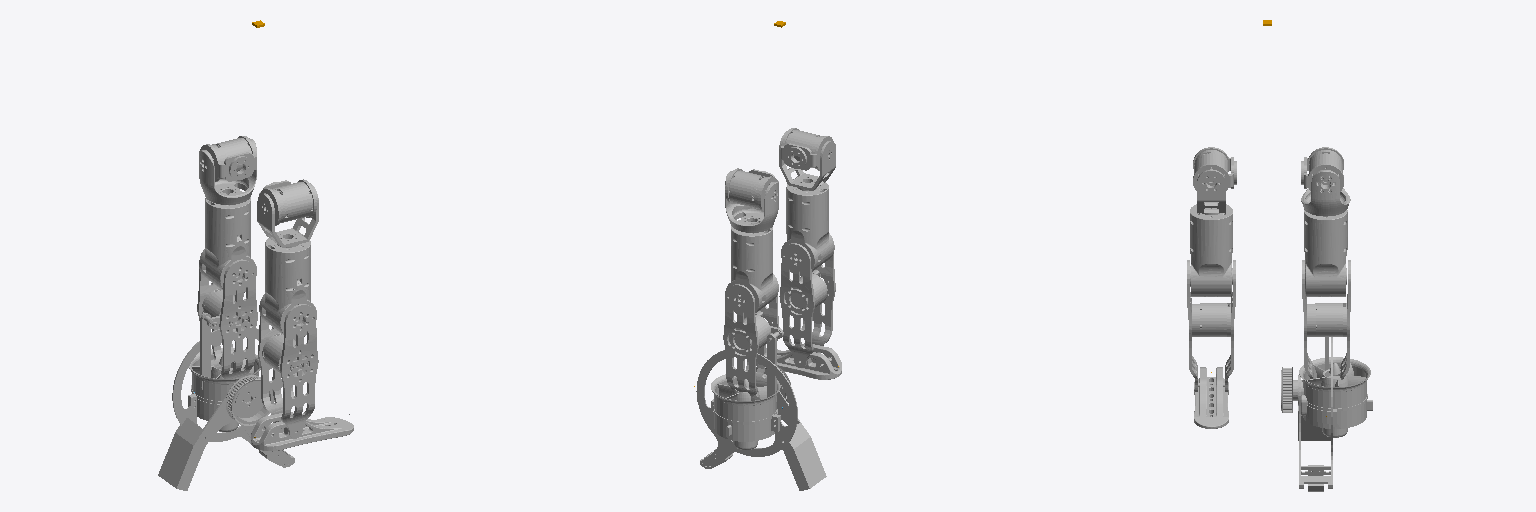
--- Facts derived from the render (not from the file) ---
3 views of the same robot in one strip: view 1: azimuth 30°, elevation 25°; view 2: azimuth 150°, elevation 25°; view 3: azimuth 270°, elevation 25° (orthographic).
Robot: legged_dm_description_no_arm — 17 links, 16 joints (10 revolute, 6 fixed); root link base_link; default pose: all joints at 0.
Links seen in each view (by area): view 1: leg_l5_link, leg_r4_link, leg_l4_link, leg_r3_link, leg_l3_link, leg_r5_link, leg_l1_link, leg_r1_link, leg_l2_link, leg_r2_link; view 2: leg_l5_link, leg_r4_link, leg_l4_link, leg_r3_link, leg_l3_link, leg_l2_link, leg_l1_link, leg_r1_link, leg_r5_link, leg_r2_link; view 3: leg_l5_link, leg_r3_link, leg_l3_link, leg_l4_link, leg_r4_link, leg_r5_link, leg_l2_link, leg_r1_link, leg_l1_link, leg_r2_link.
Boxes of the visible links, x1,y1,x2,y2 form: leg_l5_link: [158, 328, 294, 490]; leg_r4_link: [258, 304, 318, 438]; leg_l4_link: [197, 249, 257, 389]; leg_r3_link: [259, 238, 316, 338]; leg_l3_link: [199, 197, 256, 294]; leg_r5_link: [251, 412, 353, 451]; leg_l1_link: [200, 136, 256, 181]; leg_r1_link: [259, 179, 316, 225]; leg_l2_link: [199, 138, 256, 204]; leg_r2_link: [257, 183, 318, 247]; leg_l5_link: [696, 350, 826, 490]; leg_r4_link: [779, 243, 835, 367]; leg_l4_link: [723, 284, 783, 402]; leg_r3_link: [781, 182, 834, 275]; leg_l3_link: [725, 226, 778, 316]; leg_l2_link: [725, 171, 778, 232]; leg_l1_link: [725, 168, 778, 211]; leg_r1_link: [781, 128, 833, 170]; leg_r5_link: [756, 343, 841, 379]; leg_r2_link: [779, 131, 835, 190]; leg_l5_link: [1281, 337, 1372, 491]; leg_r3_link: [1190, 204, 1232, 296]; leg_l3_link: [1304, 209, 1347, 296]; leg_l4_link: [1302, 260, 1350, 379]; leg_r4_link: [1187, 260, 1235, 391]; leg_r5_link: [1194, 367, 1228, 428]; leg_l2_link: [1301, 170, 1350, 216]; leg_r1_link: [1193, 147, 1236, 190]; leg_l1_link: [1301, 147, 1343, 191]; leg_r2_link: [1197, 169, 1225, 214].
Bounding box of the posed robot: 0.2382 × 0.311 × 0.8235 m (x, y, z).
10 mesh visuals loaded from 12 distinct referenced files (10 binary STL); not drawn: 2 (reference not matched to a file when rendering).

URDF robot description (legged_dm_description_no_arm):
<?xml version="1.0" encoding="utf-8"?>
<!-- This URDF was automatically created by SolidWorks to URDF Exporter! Originally created by Stephen Brawner ([email redacted]) 
     Commit Version: 1.6.0-4-g7f85cfe  Build Version: 1.6.7995.38578
     For more information, please see http://wiki.ros.org/sw_urdf_exporter -->
<robot
  name="legged_dm_description_no_arm">
  
  
    <gazebo>
    <plugin name="gazebo_ros_control" filename="libdm_bipedal_hw_sim.so">
      <robotNamespace>/</robotNamespace>
      <robotParam>legged_robot_description</robotParam>
      <robotSimType>legged_gazebo/LeggedHWSim</robotSimType>
    </plugin>
  </gazebo>

  <gazebo>
    <plugin filename="libgazebo_ros_p3d.so" name="p3d_base_controller">
      <alwaysOn>true</alwaysOn>
      <updateRate>500.0</updateRate>
      <bodyName>base_link</bodyName>
      <topicName>ground_truth/state</topicName>
      <gaussianNoise>0</gaussianNoise>
      <frameName>world</frameName>
      <xyzOffsets>0 0 0</xyzOffsets>
      <rpyOffsets>0 0 0</rpyOffsets>
    </plugin>
  </gazebo>
  
  
     <joint name="imu_joint" type="fixed">
    <origin rpy="0. 0. 0." xyz="0. 0. 0"/>
    <parent link="base_link"/>
    <child link="imu_link"/>
  </joint>
  <!-- Imu link -->
  <link name="imu_link">
    <inertial>
      <mass value="0.01"/>
      <origin rpy="0 0 0" xyz="0 0 0"/>
      <inertia ixx="0.000001" ixy="0" ixz="0" iyy="0.000001" iyz="0" izz="0.000001"/>
    </inertial>
    <visual>
      <origin rpy="0 0 0" xyz="0 0 0"/>
      <geometry>
        <box size="0.015 0.015 0.004"/>
      </geometry>
    </visual>
    <material name="orange">
      <color rgba="255 108 10 255"/>
    </material>
  </link>
  <gazebo reference="imu_joint">
    <disableFixedJointLumping>true</disableFixedJointLumping>
  </gazebo>
  
  
  <link
    name="base_link">
    <inertial>
      <origin
        xyz="0.0061480341136492 2.42553531417805E-05 -0.111624993311513"
        rpy="0 0 0" />
      <mass
        value="3.81753131" />
      <inertia
        ixx="0.02096040"
        ixy="-0.00000182"
        ixz="0.00154787"
        iyy="0.01755665"
        iyz="0.00005804"
        izz="0.00820537" />
    </inertial>
    <visual>
      <origin
        xyz="0 0 0"
        rpy="0 0 0" />
      <geometry>
        <mesh
          filename="package://legged_dm_description/meshes/base_link.STL" />
      </geometry>
      <material
        name="">
        <color
          rgba="0.752941176470588 0.752941176470588 0.752941176470588 1" />
      </material>
    </visual>
    <collision>
      <origin
        xyz="-0.004 0 -0.095"
        rpy="0 0 0" />
      <geometry>
        <box size="0.125 0.12 0.245" />
      </geometry>
    </collision>
  </link>
  
  
  <link
    name="loin_yaw_Link">
    <inertial>
      <origin
        xyz="-3.96165344417124E-05 1.08886951040443E-06 -0.0382219990598478"
        rpy="0 0 0" />
      <mass
        value="1.24596075" />
      <inertia
        ixx="0.00229679"
        ixy="0"
        ixz="-0.00000824"
        iyy="0.00136964"
        iyz="-0.00000004"
        izz="0.00209045" />
    </inertial>
    <visual>
      <origin
        xyz="0 0 0"
        rpy="0 0 0" />
      <geometry>
        <mesh
          filename="package://legged_dm_description/meshes/loin_yaw_Link.STL" />
      </geometry>
      <material
        name="">
        <color
          rgba="0.752941176470588 0.752941176470588 0.752941176470588 1" />
      </material>
    </visual>
    <collision>
      <origin
        xyz="0 0 -0.045"
        rpy="0 0 0" />
      <geometry>
        <box size="0.08 0.1 0.07" />
      </geometry>
    </collision>
  </link>
  <joint
    name="loin_yaw_joint"
    type="fixed">
    <origin
      xyz="-0.00067821 0.0012513 -0.21859"
      rpy="0 0 0" />
    <parent
      link="base_link" />
    <child
      link="loin_yaw_Link" />
    <axis
      xyz="0 0 0" />
  </joint>
  
  
  <link
    name="leg_l1_link">
    <inertial>
      <origin
        xyz="-0.000506986055872183 0.0370231933558073 6.36401191710101E-07"
        rpy="0 0 0" />
      <mass
        value="0.48644139" />
      <inertia
        ixx="0.00023823"
        ixy="0.00000385"
        ixz="0"
        iyy="0.00028074"
        iyz="-0.00000006"
        izz="0.00031528" />
    </inertial>
    <visual>
      <origin
        xyz="0 0 0"
        rpy="0 0 0" />
      <geometry>
        <mesh
          filename="package://legged_dm_description/meshes/leg_l1_link.STL" />
      </geometry>
      <material
        name="">
        <color
          rgba="0.752941176470588 0.752941176470588 0.752941176470588 1" />
      </material>
    </visual>
    <collision>
      <origin
        xyz="0 0 0"
        rpy="0 0 0" />
      <geometry>
        <box size="0.0001 0.0001 0.0001" />
      </geometry>
    </collision>
  </link>
  <joint
    name="leg_l1_joint"
    type="revolute">
    <origin
      xyz="0 0.05355 -0.057"
      rpy="0 0 0" />
    <parent
      link="loin_yaw_Link" />
    <child
      link="leg_l1_link" />
    <axis
      xyz="0 1 0" />
    <limit
      lower="-1.05"
      upper="1.05"
      effort="26"
      velocity="10" />
  </joint>
  
  
  <link
    name="leg_l2_link">
    <inertial>
      <origin
        xyz="-0.0320414029924599 1.4432899320127E-15 -0.0308330815574961"
        rpy="0 0 0" />
      <mass
        value="0.11861238" />
      <inertia
        ixx="0.00011451"
        ixy="0"
        ixz="-0.00000415"
        iyy="0.00022087"
        iyz="0"
        izz="0.00015614" />
    </inertial>
    <visual>
      <origin
        xyz="0 0 0"
        rpy="0 0 0" />
      <geometry>
        <mesh
          filename="package://legged_dm_description/meshes/leg_l2_link.STL" />
      </geometry>
      <material
        name="">
        <color
          rgba="0.752941176470588 0.752941176470588 0.752941176470588 1" />
      </material>
    </visual>
    <collision>
      <origin
        xyz="0 0 0"
        rpy="0 0 0" />
      <geometry>
        <box size="0.0001 0.0001 0.0001" />
      </geometry>
    </collision>
  </link>
  <joint
    name="leg_l2_joint"
    type="revolute">
    <origin
      xyz="0.03105 0.042 0"
      rpy="0 0 0" />
    <parent
      link="leg_l1_link" />
    <child
      link="leg_l2_link" />
    <axis
      xyz="1 0 0" />
    <limit
      lower="-0.52"
      upper="0.785"
      effort="26"
      velocity="10" />
  </joint>
  
  
  <link
    name="leg_l3_link">
    <inertial>
      <origin
        xyz="0.000278982887999102 -0.000229561861601335 -0.0715253433662409"
        rpy="0 0 0" />
      <mass
        value="0.96637716" />
      <inertia
        ixx="0.00249649"
        ixy="0.00000107"
        ixz="0.00000468"
        iyy="0.00247033"
        iyz="0.00007622"
        izz="0.00055659" />
    </inertial>
    <visual>
      <origin
        xyz="0 0 0"
        rpy="0 0 0" />
      <geometry>
        <mesh
          filename="package://legged_dm_description/meshes/leg_l3_link.STL" />
      </geometry>
      <material
        name="">
        <color
          rgba="0.752941176470588 0.752941176470588 0.752941176470588 1" />
      </material>
    </visual>
    <collision>
      <origin
        xyz="0 0 0"
        rpy="0 0 0" />
      <geometry>
        <box size="0.0001 0.0001 0.0001" />
      </geometry>
    </collision>
  </link>
  <joint
    name="leg_l3_joint"
    type="revolute">
    <origin
      xyz="-0.030907 0 -0.074"
      rpy="0 0 0" />
    <parent
      link="leg_l2_link" />
    <child
      link="leg_l3_link" />
    <axis
      xyz="0 0 1" />
    <limit
      lower="-0.52"
      upper="0.785"
      effort="26"
      velocity="10" />
  </joint>
  
  
  <link
    name="leg_l4_link">
    <inertial>
      <origin
        xyz="-0.0129877782682978 0.0325006294835812 -0.0983187176884057"
        rpy="0 0 0" />
      <mass
        value="0.59597545" />
      <inertia
        ixx="0.00116533"
        ixy="0.00001896"
        ixz="0.00018591"
        iyy="0.00120581"
        iyz="0.00001376"
        izz="0.00048458" />
    </inertial>
    <visual>
      <origin
        xyz="0 0 0"
        rpy="0 0 0" />
      <geometry>
        <mesh
          filename="package://legged_dm_description/meshes/leg_l4_link.STL" />
      </geometry>
      <material
        name="">
        <color
          rgba="0.752941176470588 0.752941176470588 0.752941176470588 1" />
      </material>
    </visual>
    <collision>
      <origin 
	xyz="0 0.03 -0.1"
	rpy="0 0 0" />
      <geometry>
        <box size="0.041 0.07 0.15" />
      </geometry>
    </collision>
  </link>
  <joint
    name="leg_l4_joint"
    type="revolute">
    <origin
      xyz="0 -0.03105 -0.11705"
      rpy="0 0 0" />
    <parent
      link="leg_l3_link" />
    <child
      link="leg_l4_link" />
    <axis
      xyz="0 1 0" />
    <limit
      lower="-0.3"
      upper="2.3562"
      effort="26"
      velocity="10" />
  </joint>
  
  
  <link
    name="leg_l5_link">
    <inertial>
      <origin
        xyz="0.0111687050873322 -0.00799990634396416 -0.0124140199936342"
        rpy="0 0 0" />
      <mass
        value="0.15464822" />
      <inertia
        ixx="0.00005706"
        ixy="0"
        ixz="-0.00002775"
        iyy="0.00032948"
        iyz="0"
        izz="0.00035120" />
    </inertial>
    <visual>
      <origin
        xyz="0 0 0"
        rpy="0 0 0" />
      <geometry>
        <mesh
          filename="package://legged_dm_description/meshes/leg_l5_link.STL" />
      </geometry>
      <material
        name="">
        <color
          rgba="0.752941176470588 0.752941176470588 0.752941176470588 1" />
      </material>
    </visual>
     <collision>
      <origin
        xyz="0.027 -0.008 -0.015"
        rpy="0 0 0" />
      <geometry>
        <box size="0.175 0.06 0.02" />
      </geometry>
    </collision>
  </link>
  <joint
    name="leg_l5_joint"
    type="revolute">
    <origin
      xyz="0 0.040975 -0.2"
      rpy="0 0 0" />
    <parent
      link="leg_l4_link" />
    <child
      link="leg_l5_link" />
    <axis
      xyz="0 1 0" />
    <limit
      lower="-1.047"
      upper="0.3"
      effort="26"
      velocity="10" />
  </joint>
  
  
  
  <joint name="leg_l5_fixed_1" type="fixed">
    <origin xyz="0.113 -0.008 -0.006" rpy="0 0 0" />
    <parent link="leg_l5_link" />
    <child link="leg_l_f1_link" />
  </joint>
  <link name="leg_l_f1_link">
    <inertial>
      <mass value="0.01" />
      <inertia ixx="0.000001" ixy="0" ixz="0" iyy="0.000001" iyz="0" izz="0.000001" />
    </inertial>
    <visual>
      <origin rpy="0 0 0" xyz="0 0 0"/>
      <geometry>
        <sphere radius="0.001"/>
      </geometry>
    </visual>
    <collision>
      <origin rpy="0 0 0" xyz="0 0 0"/>
      <geometry>
        <sphere radius="0.001"/>
      </geometry>
    </collision>
  </link>

  <joint name="leg_l5_fixed_2" type="fixed">
    <origin xyz="-0.061 -0.008 -0.006" rpy="0 0 0" />
    <parent link="leg_l5_link" />
    <child link="leg_l_f2_link" />
  </joint>
  <link name="leg_l_f2_link">
    <inertial>
      <mass value="0.01" />
      <inertia ixx="0.000001" ixy="0" ixz="0" iyy="0.000001" iyz="0" izz="0.000001" />
    </inertial>
    <visual>
      <origin rpy="0 0 0" xyz="0 0 0"/>
      <geometry>
        <sphere radius="0.001"/>
      </geometry>
    </visual>
    <collision>
      <origin rpy="0 0 0" xyz="-0 0 0"/>
      <geometry>
        <sphere radius="0.001"/>
      </geometry>
    </collision>
  </link>

   <gazebo reference="leg_l1_link">
    <mu1>0.6</mu1>
    <mu2>0.6</mu2>
    <self_collide>1</self_collide>
  </gazebo>
  <gazebo reference="leg_l2_link">
    <mu1>0.6</mu1>
    <mu2>0.6</mu2>
    <self_collide>1</self_collide>
  </gazebo>
  <gazebo reference="leg_l3_link">
    <mu1>0.6</mu1>
    <mu2>0.6</mu2>
    <self_collide>1</self_collide>
  </gazebo>
  <gazebo reference="leg_l4_link">
    <mu1>0.6</mu1>
    <mu2>0.6</mu2>
    <self_collide>1</self_collide>
  </gazebo>
  <gazebo reference="leg_l5_link">
    <mu1>0.7</mu1>
    <mu2>0.7</mu2>
    <self_collide>1</self_collide>
    <kp value="1000000.0"/>
    <kd value="100.0"/>
    <maxVel>1.0</maxVel>
    <minDepth>0.00</minDepth>
  </gazebo>
  <gazebo reference="leg_l_f1_link">
    <mu1>1.5</mu1>
    <mu2>1.5</mu2>
    <self_collide>1</self_collide>
    <kp value="1000000.0"/>
    <kd value="100.0"/>
    <maxVel>1.0</maxVel>
    <minDepth>0.00</minDepth>
  </gazebo>
  <gazebo reference="leg_l_f2_link">
    <mu1>1.5</mu1>
    <mu2>1.5</mu2>
    <self_collide>1</self_collide>
    <kp value="1000000.0"/>
    <kd value="100.0"/>
    <maxVel>1.0</maxVel>
    <minDepth>0.00</minDepth>
  </gazebo>

  <transmission name="leg_l1_tran">
    <type>transmission_interface/SimpleTransmission</type>
    <joint name="leg_l1_joint">
      <hardwareInterface>hardware_interface/EffortJointInterface</hardwareInterface>
    </joint>
    <actuator name="leg_l1_motor">
      <hardwareInterface>hardware_interface/EffortJointInterface</hardwareInterface>
      <mechanicalReduction>1</mechanicalReduction>
    <maxVelocity>1.484</maxVelocity><!-- 85rpm -->
	  <maxEffort>36.0</maxEffort><!-- 36Nm -->
    </actuator>
  </transmission>

  <transmission name="leg_l2_tran">
    <type>transmission_interface/SimpleTransmission</type>
    <joint name="leg_l2_joint">
      <hardwareInterface>hardware_interface/EffortJointInterface</hardwareInterface>
    </joint>
    <actuator name="leg_l2_motor">
      <hardwareInterface>hardware_interface/EffortJointInterface</hardwareInterface>
      <mechanicalReduction>1</mechanicalReduction>
    <maxVelocity>2.6545</maxVelocity><!-- 160rpm -->
	  <maxEffort>94.0</maxEffort><!-- 94Nm -->
    </actuator>
  </transmission>

  <transmission name="leg_l3_tran">
    <type>transmission_interface/SimpleTransmission</type>
    <joint name="leg_l3_joint">
      <hardwareInterface>hardware_interface/EffortJointInterface</hardwareInterface>
    </joint>
    <actuator name="leg_l3_motor">
      <hardwareInterface>hardware_interface/EffortJointInterface</hardwareInterface>
      <mechanicalReduction>1</mechanicalReduction>
    <maxVelocity>2.6545</maxVelocity><!-- 160rpm -->
	  <maxEffort>94.0</maxEffort><!-- 94Nm -->
    </actuator>
  </transmission>

  <transmission name="leg_l4_tran">
    <type>transmission_interface/SimpleTransmission</type>
    <joint name="leg_l4_joint">
      <hardwareInterface>hardware_interface/EffortJointInterface</hardwareInterface>
    </joint>
    <actuator name="leg_l4_motor">
      <hardwareInterface>hardware_interface/EffortJointInterface</hardwareInterface>
      <mechanicalReduction>1</mechanicalReduction>
    <maxVelocity>1.484</maxVelocity><!-- 85rpm -->
	<maxEffort>36.0</maxEffort><!-- 36Nm -->
    </actuator>
  </transmission>

  <transmission name="leg_l5_tran">
    <type>transmission_interface/SimpleTransmission</type>
    <joint name="leg_l5_joint">
      <hardwareInterface>hardware_interface/EffortJointInterface</hardwareInterface>
    </joint>
    <actuator name="leg_l5_motor">
      <hardwareInterface>hardware_interface/EffortJointInterface</hardwareInterface>
      <mechanicalReduction>1</mechanicalReduction>
    </actuator>
  </transmission>





  
  <link
    name="leg_r1_link">
    <inertial>
      <origin
        xyz="-0.000537148387942242 -0.0370239207667192 6.16101090135379E-06"
        rpy="0 0 0" />
      <mass
        value="0.48644139" />
      <inertia
        ixx="0.00023823"
        ixy="-0.00000382"
        ixz="-0.00000011"
        iyy="0.00028115"
        iyz="-0.00000010"
        izz="0.00031577" />
    </inertial>
    <visual>
      <origin
        xyz="0 0 0"
        rpy="0 0 0" />
      <geometry>
        <mesh
          filename="package://legged_dm_description/meshes/leg_r1_link.STL" />
      </geometry>
      <material
        name="">
        <color
          rgba="0.752941176470588 0.752941176470588 0.752941176470588 1" />
      </material>
    </visual>
    <collision>
      <origin
        xyz="0 0 0"
        rpy="0 0 0" />
      <geometry>
        <box size="0.0001 0.0001 0.0001" />
      </geometry>
    </collision>
  </link>
  <joint
    name="leg_r1_joint"
    type="revolute">
    <origin
      xyz="0 -0.05355 -0.057"
      rpy="0 0 0" />
    <parent
      link="loin_yaw_Link" />
    <child
      link="leg_r1_link" />
    <axis
      xyz="0 1 0" />
    <limit
      lower="-1.05"
      upper="1.05"
      effort="26"
      velocity="10" />
  </joint>
  
  
  <link
    name="leg_r2_link">
    <inertial>
      <origin
        xyz="-0.032041402992459 -4.16333634234434E-15 -0.0308330815574887"
        rpy="0 0 0" />
      <mass
        value="0.11861238" />
      <inertia
        ixx="0.00011451"
        ixy="0"
        ixz="-0.00000415"
        iyy="0.00022087"
        iyz="0"
        izz="0.00015614" />
    </inertial>
    <visual>
      <origin
        xyz="0 0 0"
        rpy="0 0 0" />
      <geometry>
        <mesh
          filename="package://legged_dm_description/meshes/leg_r2_link.STL" />
      </geometry>
      <material
        name="">
        <color
          rgba="0.752941176470588 0.752941176470588 0.752941176470588 1" />
      </material>
    </visual>
    <collision>
      <origin
        xyz="0 0 0"
        rpy="0 0 0" />
      <geometry>
        <box size="0.0001 0.0001 0.0001" />
      </geometry>
    </collision>
  </link>
  <joint
    name="leg_r2_joint"
    type="revolute">
    <origin
      xyz="0.03105 -0.042 0"
      rpy="0 0 0" />
    <parent
      link="leg_r1_link" />
    <child
      link="leg_r2_link" />
    <axis
      xyz="1 0 0" />
    <limit
      lower="-0.785"
      upper="0.52"
      effort="26"
      velocity="10" />
  </joint>
  
  
  <link
    name="leg_r3_link">
    <inertial>
      <origin
        xyz="0.000278983495650337 -0.000229566098048859 -0.0715253318644088"
        rpy="0 0 0" />
      <mass
        value="0.96637716" />
      <inertia
        ixx="0.00249649"
        ixy="0.00000107"
        ixz="0.00000468"
        iyy="0.00247033"
        iyz="0.00007622"
        izz="0.00055659" />
    </inertial>
    <visual>
      <origin
        xyz="0 0 0"
        rpy="0 0 0" />
      <geometry>
        <mesh
          filename="package://legged_dm_description/meshes/leg_r3_link.STL" />
      </geometry>
      <material
        name="">
        <color
          rgba="0.752941176470588 0.752941176470588 0.752941176470588 1" />
      </material>
    </visual>
    <collision>
      <origin
        xyz="0 0 0"
        rpy="0 0 0" />
      <geometry>
        <box size="0.0001 0.0001 0.0001" />
      </geometry>
    </collision>
  </link>
  <joint
    name="leg_r3_joint"
    type="revolute">
    <origin
      xyz="-0.030907 0 -0.074"
      rpy="0 0 0" />
    <parent
      link="leg_r2_link" />
    <child
      link="leg_r3_link" />
    <axis
      xyz="0 0 1" />
    <limit
      lower="-0.785"
      upper="0.52"
      effort="26"
      velocity="10" />
  </joint>
  
  
  <link
    name="leg_r4_link">
    <inertial>
      <origin
        xyz="-0.0129877783067773 0.0305506301318382 -0.0983187172802739"
        rpy="0 0 0" />
      <mass
        value="0.59597545" />
      <inertia
        ixx="0.00116533"
        ixy="0.00001896"
        ixz="0.00018591"
        iyy="0.00120581"
        iyz="0.00001376"
        izz="0.00048458" />
    </inertial>
    <visual>
      <origin
        xyz="0 0 0"
        rpy="0 0 0" />
      <geometry>
        <mesh
          filename="package://legged_dm_description/meshes/leg_r4_link.STL" />
      </geometry>
      <material
        name="">
        <color
          rgba="0.752941176470588 0.752941176470588 0.752941176470588 1" />
      </material>
    </visual>
    <collision>
      <origin
	xyz="0 0.03 -0.1"
        rpy="0 0 0" />
      <geometry>
        <box size="0.041 0.07 0.15" />
      </geometry>
    </collision>
  </link>
  <joint
    name="leg_r4_joint"
    type="revolute">
    <origin
      xyz="0 -0.03105 -0.11705"
      rpy="0 0 0" />
    <parent
      link="leg_r3_link" />
    <child
      link="leg_r4_link" />
    <axis
      xyz="0 1 0" />
    <limit
      lower="-0.3"
      upper="2.3562"
      effort="26"
      velocity="10" />
  </joint>
  
  
  <link
    name="leg_r5_link">
    <inertial>
      <origin
        xyz="0.0108899133318575 0.0080000949349145 -0.0126592831546718"
        rpy="0 0 0" />
      <mass
        value="0.15464822" />
      <inertia
        ixx="0.00005844"
        ixy="0"
        ixz="-0.00003426"
        iyy="0.00032948"
        iyz="0"
        izz="0.00034982" />
    </inertial>
    <visual>
      <origin
        xyz="0 0 0"
        rpy="0 0 0" />
      <geometry>
        <mesh
          filename="package://legged_dm_description/meshes/leg_r5_link.STL" />
      </geometry>
      <material
        name="">
        <color
          rgba="0.752941176470588 0.752941176470588 0.752941176470588 1" />
      </material>
    </visual>
    <collision>
      <origin
        xyz="0.027 0.008 -0.015"
        rpy="0 0 0" />
      <geometry>
        <box size="0.175 0.06 0.02" />
      </geometry>
    </collision>
  </link>
  <joint
    name="leg_r5_joint"
    type="revolute">
    <origin
      xyz="0 0.0231 -0.2"
      rpy="0 0 0" />
    <parent
      link="leg_r4_link" />
    <child
      link="leg_r5_link" />
    <axis
      xyz="0 1 0" />
    <limit
      lower="-1.047"
      upper="0.3"
      effort="26"
      velocity="10" />
  </joint>
  
  
  <joint name="leg_r5_fixed_1" type="fixed">
    <origin xyz="0.113 0.008 -0.006" rpy="0 0 0" />
    <parent link="leg_r5_link" />
    <child link="leg_r_f1_link" />
  </joint>
  <link name="leg_r_f1_link">
    <inertial>
      <mass value="0.01" />
      <inertia ixx="0.000001" ixy="0" ixz="0" iyy="0.000001" iyz="0" izz="0.000001" />
    </inertial>
    <visual>
      <origin rpy="0 0 0" xyz="0 0 0"/>
      <geometry>
        <sphere radius="0.001"/>
      </geometry>
    </visual>
    <collision>
      <origin rpy="0 0 0" xyz="0 0 0"/>
      <geometry>
        <sphere radius="0.001"/>
      </geometry>
    </collision>
  </link>

  <joint name="leg_r5_fixed_2" type="fixed">
    <origin xyz="-0.061 0.008 -0.006" rpy="0 0 0" />
    <parent link="leg_r5_link" />
    <child link="leg_r_f2_link" />
  </joint>
  <link name="leg_r_f2_link">
    <inertial>
      <mass value="0.01" />
      <inertia ixx="0.000001" ixy="0" ixz="0" iyy="0.000001" iyz="0" izz="0.000001" />
    </inertial>
    <visual>
      <origin rpy="0 0 0" xyz="0 0 0"/>
      <geometry>
        <sphere radius="0.001"/>
      </geometry>
    </visual>
    <collision>
      <origin rpy="0 0 0" xyz="0 0 0"/>
      <geometry>
        <sphere radius="0.001"/>
      </geometry>
    </collision>
  </link>

  
  
    <gazebo reference="leg_r1_link">
    <mu1>0.6</mu1>
    <mu2>0.6</mu2>
    <self_collide>1</self_collide>
  </gazebo>
  <gazebo reference="leg_r2_link">
    <mu1>0.6</mu1>
    <mu2>0.6</mu2>
    <self_collide>1</self_collide>
  </gazebo>
  <gazebo reference="leg_r3_link">
    <mu1>0.6</mu1>
    <mu2>0.6</mu2>
    <self_collide>1</self_collide>
  </gazebo>
  <gazebo reference="leg_r4_link">
    <mu1>0.6</mu1>
    <mu2>0.6</mu2>
    <self_collide>1</self_collide>
  </gazebo>
  <gazebo reference="leg_r5_link">
    <mu1>0.7</mu1>
    <mu2>0.7</mu2>
    <self_collide>1</self_collide>
    <kp value="1000000.0"/>
    <kd value="100.0"/>
    <maxVel>1.0</maxVel>
    <minDepth>0.00</minDepth>
  </gazebo>
  <gazebo reference="leg_r_f1_link">
    <mu1>1.5</mu1>
    <mu2>1.5</mu2>
    <self_collide>1</self_collide>
    <kp value="1000000.0"/>
    <kd value="100.0"/>
    <maxVel>1.0</maxVel>
    <minDepth>0.00</minDepth>
  </gazebo>
  <gazebo reference="leg_r_f2_link">
    <mu1>1.5</mu1>
    <mu2>1.5</mu2>
    <self_collide>1</self_collide>
    <kp value="1000000.0"/>
    <kd value="100.0"/>
    <maxVel>1.0</maxVel>
    <minDepth>0.00</minDepth>
  </gazebo>

  <transmission name="leg_r1_tran">
    <type>transmission_interface/SimpleTransmission</type>
    <joint name="leg_r1_joint">
      <hardwareInterface>hardware_interface/EffortJointInterface</hardwareInterface>
    </joint>
    <actuator name="leg_r1_motor">
      <hardwareInterface>hardware_interface/EffortJointInterface</hardwareInterface>
      <mechanicalReduction>1</mechanicalReduction>
      	  <maxVelocity>1.484</maxVelocity><!-- 85rpm -->
	<maxEffort>36.0</maxEffort><!-- 36Nm -->
    </actuator>
  </transmission>

  <transmission name="leg_r2_tran">
    <type>transmission_interface/SimpleTransmission</type>
    <joint name="leg_r2_joint">
      <hardwareInterface>hardware_interface/EffortJointInterface</hardwareInterface>
    </joint>
    <actuator name="leg_r2_motor">
      <hardwareInterface>hardware_interface/EffortJointInterface</hardwareInterface>
      <mechanicalReduction>1</mechanicalReduction>
      	  <maxVelocity>2.6545</maxVelocity><!-- 160rpm -->
	  <maxEffort>94.0</maxEffort><!-- 94Nm -->
    </actuator>
  </transmission>

  <transmission name="leg_r3_tran">
    <type>transmission_interface/SimpleTransmission</type>
    <joint name="leg_r3_joint">
      <hardwareInterface>hardware_interface/EffortJointInterface</hardwareInterface>
    </joint>
    <actuator name="leg_r3_motor">
      <hardwareInterface>hardware_interface/EffortJointInterface</hardwareInterface>
      <mechanicalReduction>1</mechanicalReduction>
      	  <maxVelocity>2.6545</maxVelocity><!-- 160rpm -->
	  <maxEffort>94.0</maxEffort><!-- 94Nm -->
    </actuator>
  </transmission>

  <transmission name="leg_r4_tran">
    <type>transmission_interface/SimpleTransmission</type>
    <joint name="leg_r4_joint">
      <hardwareInterface>hardware_interface/EffortJointInterface</hardwareInterface>
    </joint>
    <actuator name="leg_r4_motor">
      <hardwareInterface>hardware_interface/EffortJointInterface</hardwareInterface>
      <mechanicalReduction>1</mechanicalReduction>
      	  <maxVelocity>1.484</maxVelocity><!-- 85rpm -->
	<maxEffort>36.0</maxEffort><!-- 36Nm -->
    </actuator>
  </transmission>

  <transmission name="leg_r5_tran">
    <type>transmission_interface/SimpleTransmission</type>
    <joint name="leg_r5_joint">
      <hardwareInterface>hardware_interface/EffortJointInterface</hardwareInterface>
    </joint>
    <actuator name="leg_r5_motor">
      <hardwareInterface>hardware_interface/EffortJointInterface</hardwareInterface>
      <mechanicalReduction>1</mechanicalReduction>
    </actuator>
  </transmission>
</robot>
